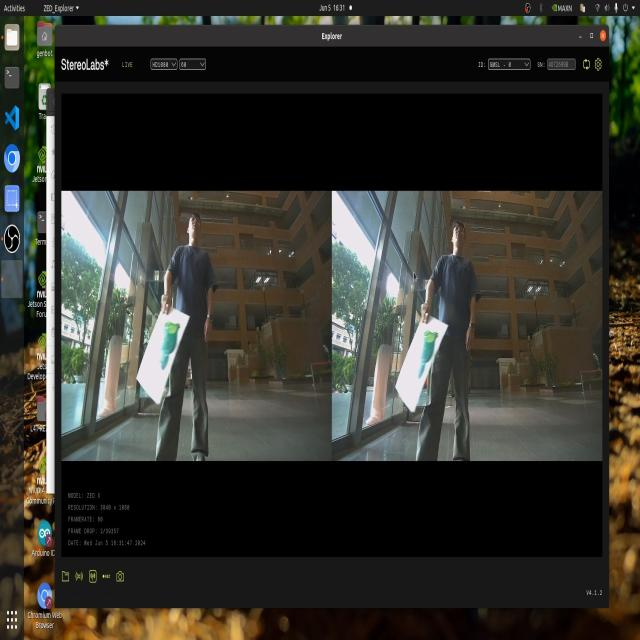green: (413, 322, 439, 384), (159, 322, 178, 371)
